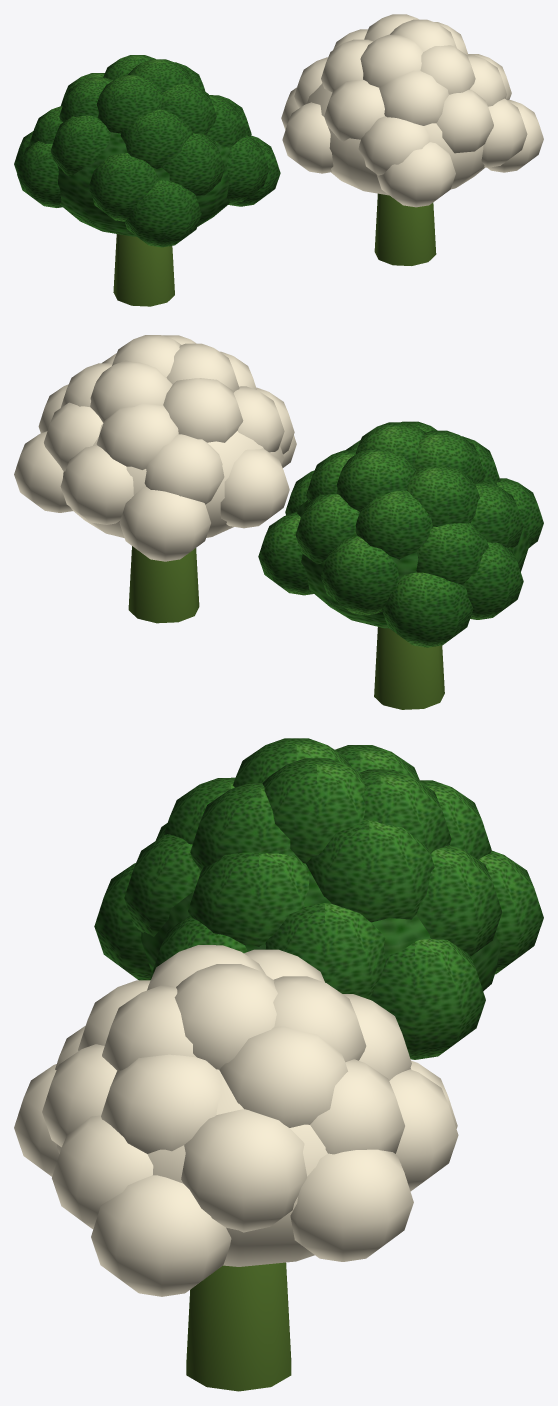
File: veg_broccoli_cauliflower.glb
3 renders of one model, top to bottom at view 1: azimuth 30°, elevation 25°; view 2: azimuth 150°, elevation 25°; view 3: azimuth 270°, elevation 25°, orthographic. The views are drawn at different scales.
Parts seen in each view (by area): view 1: veg_broccoli_cauliflower; view 2: veg_broccoli_cauliflower; view 3: veg_broccoli_cauliflower.
Part boxes in pixels (left/top/right/bottom): veg_broccoli_cauliflower: left=14, top=14, right=543, bottom=306; veg_broccoli_cauliflower: left=14, top=335, right=543, bottom=709; veg_broccoli_cauliflower: left=14, top=738, right=543, bottom=1391.
Size of the model in its own units: 0.2209 by 0.1061 by 0.1249.
Materials: 3 (1 with a texture image).
